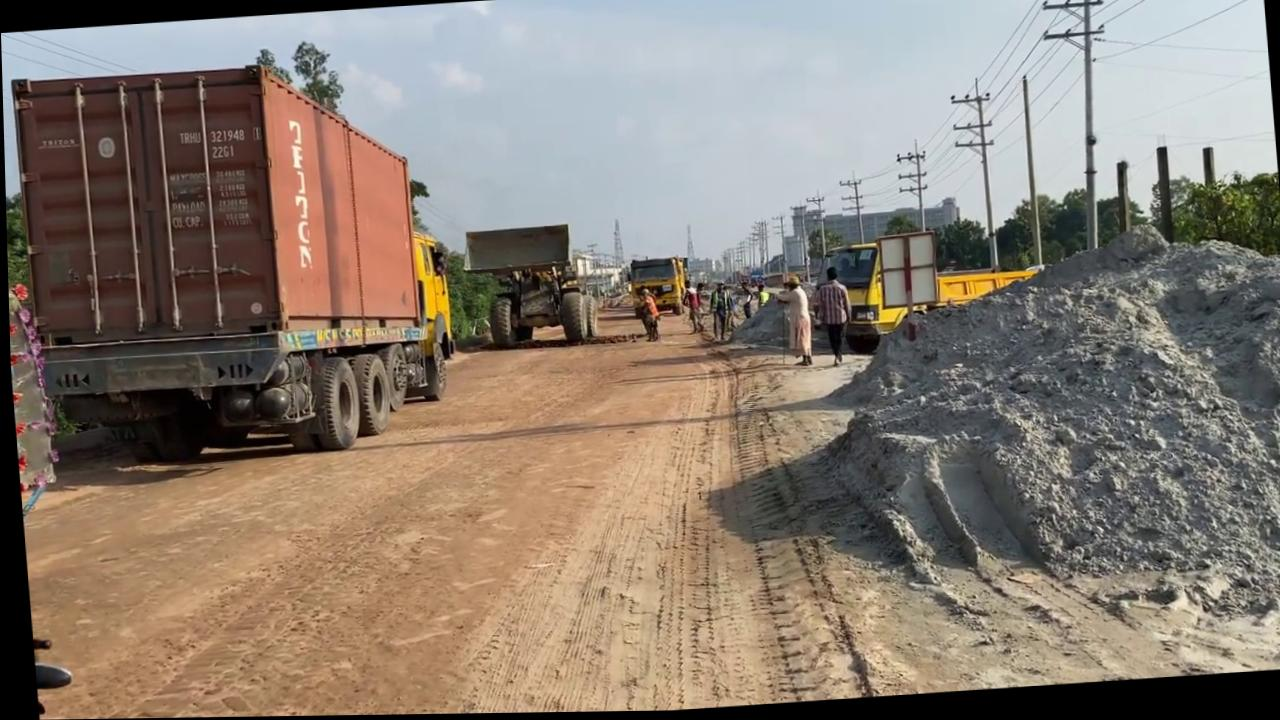Muddy road: (6, 254, 1280, 720)
Pole: (1018, 76, 1042, 268), (1153, 147, 1174, 247)
Tree: (7, 50, 455, 471), (805, 225, 1047, 359), (456, 223, 598, 351), (623, 256, 689, 321)
